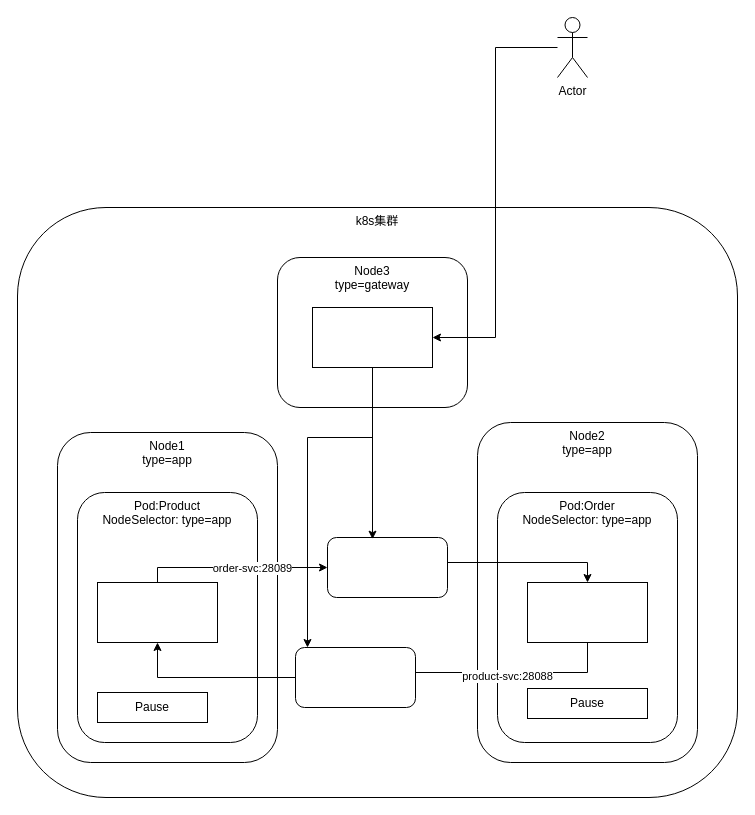
This 755x815 diagram has some shape labels left out. Each missing label, with the centre of its shape:
"ingress-controller" belongs at [372,337].
"Service: order-svc port: 28089 containerPort: 8089" belongs at [387,567].
"Service: Product-svc port: 28088 containerPort: 8088" belongs at [355,677].
"容器1 order-svc: 8089" belongs at [587,612].
"容器1 product-svc: 8088" belongs at [157,612].
